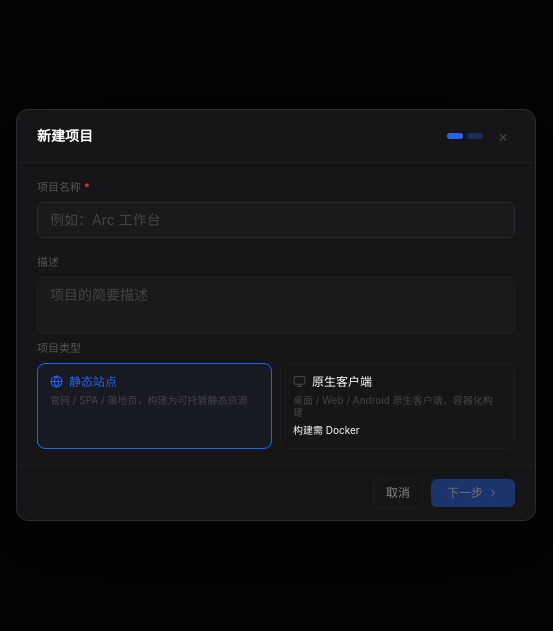
Test: CreateProjectModal › shows six build targets including native platforms
Step 1. Type "原生应用" into the field with placeholder "例如：Arc 工作台" → (276,220), box x1=37 y1=202 x2=515 y2=238
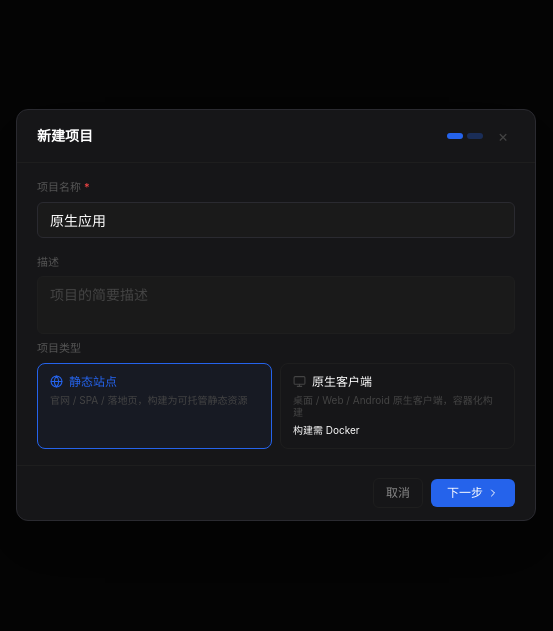
Step 2. Click the text "原生客户端" → (342,382), box x1=312 y1=374 x2=372 y2=390
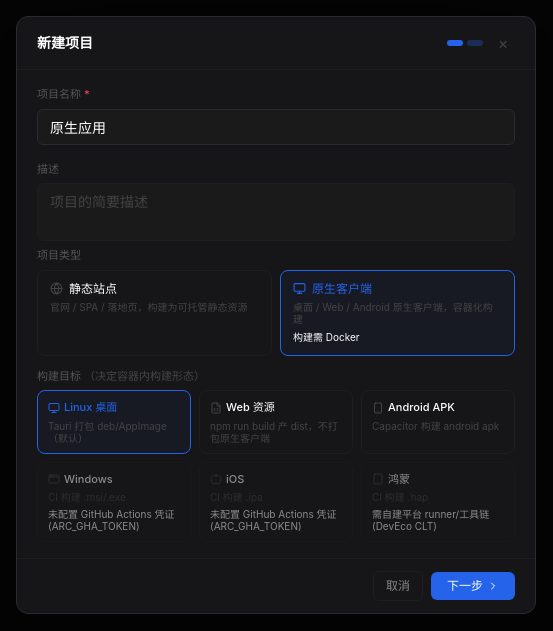
Result: the text "Linux 桌面" is shown at x1=64 y1=399 x2=117 y2=416
Result: the text "Windows" is shown at x1=64 y1=471 x2=113 y2=487
Result: the text "iOS" is shown at x1=226 y1=471 x2=244 y2=487
